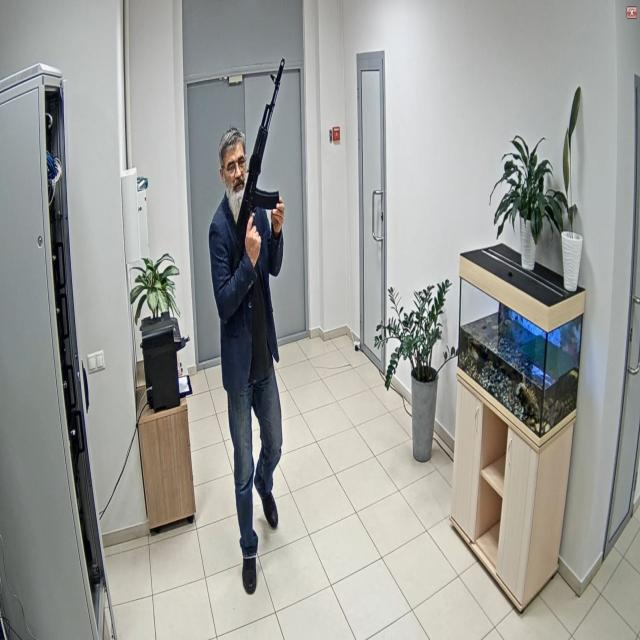-Gun: (233, 61, 285, 276)
